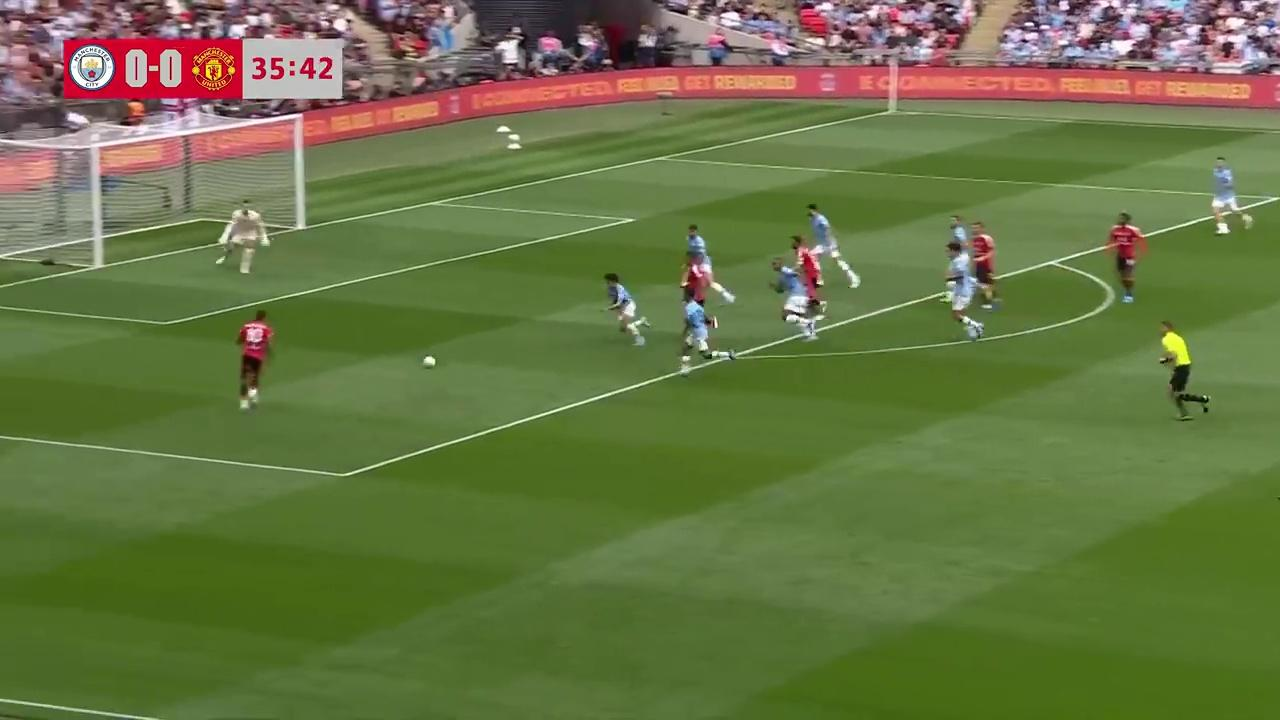ball: (420, 351, 438, 368)
player: (1102, 211, 1148, 304), (806, 204, 861, 281), (770, 255, 818, 339), (684, 224, 735, 302), (213, 200, 268, 272), (236, 308, 274, 411), (945, 246, 983, 342), (678, 281, 718, 372), (1210, 156, 1252, 235), (793, 240, 827, 336), (683, 247, 735, 307), (604, 273, 647, 343), (968, 222, 1001, 308), (945, 215, 973, 296)
referee: (1158, 321, 1211, 420)
